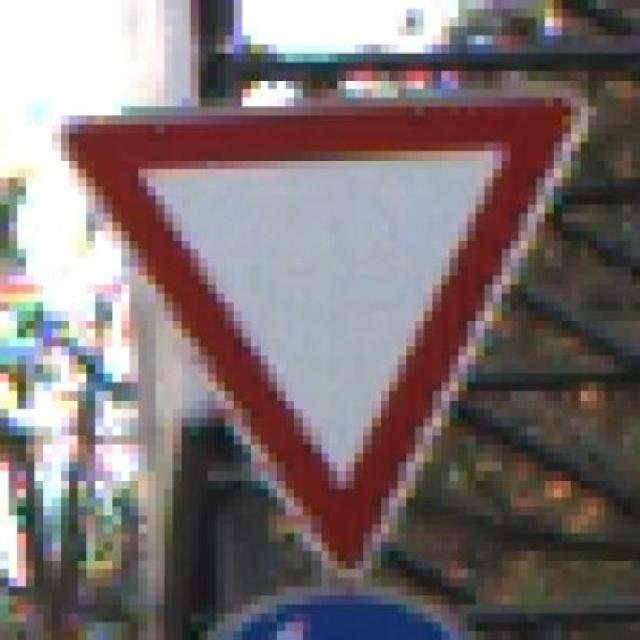Give Way: (52, 78, 597, 585)
